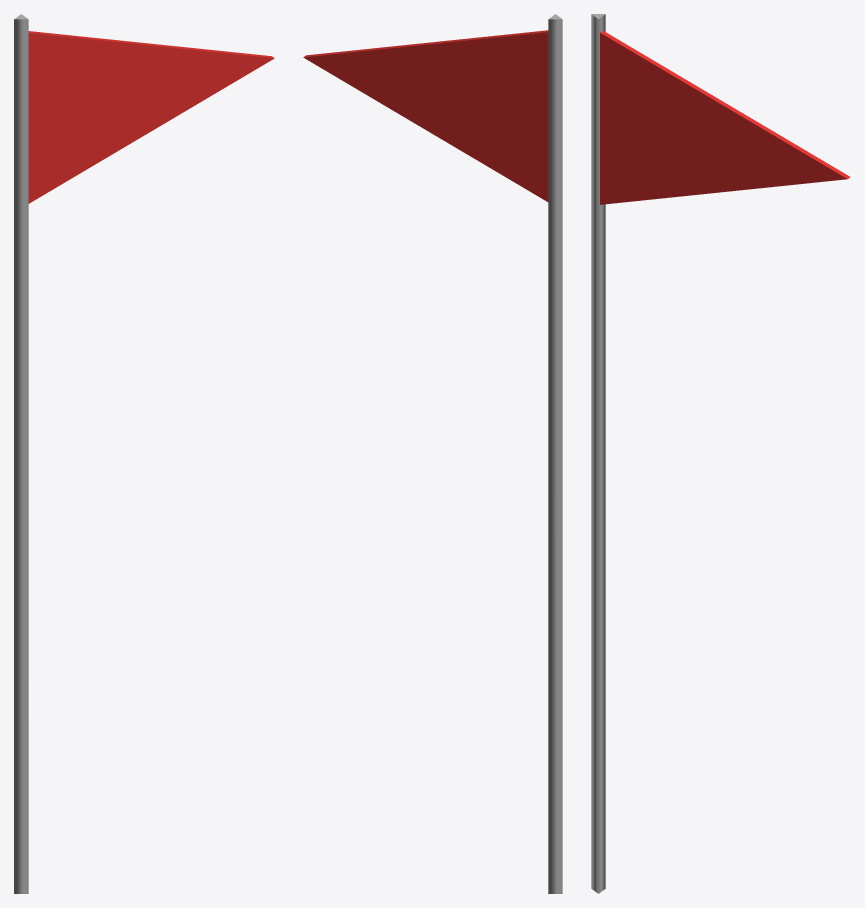
File: flag.fbx
3 views of the same model, side by side, from view 1: azimuth 30°, elevation 25°; view 2: azimuth 150°, elevation 25°; view 3: azimuth 330°, elevation 25° (orthographic).
Parts seen in each view (by area): view 1: RedFlag; view 2: RedFlag; view 3: RedFlag.
Boxes of the visible parts, x1,y1,x2,y2 form: RedFlag: (14, 14, 274, 893); RedFlag: (303, 14, 562, 893); RedFlag: (591, 14, 850, 893).
Size of the model in its own units: 61.75 by 199 by 3.02.
